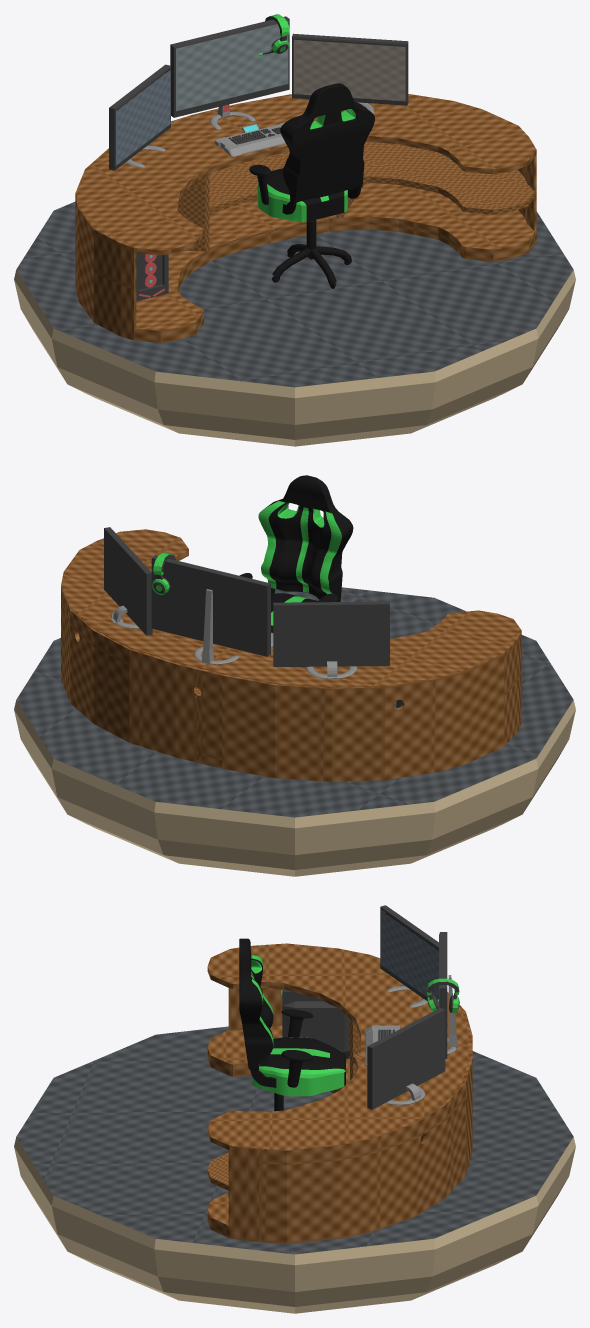
3 renders of one model, top to bottom at view 1: azimuth 30°, elevation 25°; view 2: azimuth 150°, elevation 25°; view 3: azimuth 270°, elevation 25°, orthographic.
Visible parts, largest first — view 1: Desk_Wood1-material, Floor-material, Mat007-material, Black-material, Middle_Scn-material, Left_Scn-material, Mouse1-material (×4), Right_Scn-material, Green-material, Gray-material; view 2: Desk_Wood1-material, Mat007-material, Floor-material, Mouse1-material (×3), Black-material, Green-material, Gray-material; view 3: Floor-material, Desk_Wood1-material, Mat007-material, Mouse1-material (×4), Black-material, Right_Scn-material, Green-material.
Part boxes in pixels (bbox=[...]): Desk_Wood1-material: bbox=[75, 94, 536, 342]; Floor-material: bbox=[16, 202, 573, 387]; Mat007-material: bbox=[14, 270, 575, 446]; Black-material: bbox=[249, 83, 374, 288]; Middle_Scn-material: bbox=[176, 21, 288, 111]; Left_Scn-material: bbox=[293, 39, 405, 101]; Mouse1-material (×4): bbox=[109, 16, 408, 301]; Right_Scn-material: bbox=[116, 70, 170, 165]; Green-material: bbox=[257, 108, 356, 222]; Gray-material: bbox=[215, 122, 285, 156]; Desk_Wood1-material: bbox=[61, 529, 521, 781]; Mat007-material: bbox=[14, 700, 575, 876]; Floor-material: bbox=[16, 587, 573, 817]; Mouse1-material (×3): bbox=[104, 527, 389, 666]; Black-material: bbox=[239, 475, 353, 632]; Green-material: bbox=[258, 501, 341, 625]; Gray-material: bbox=[194, 589, 239, 664]; Floor-material: bbox=[16, 1026, 573, 1254]; Desk_Wood1-material: bbox=[207, 943, 472, 1243]; Mat007-material: bbox=[14, 1137, 575, 1313]; Mouse1-material (×4): bbox=[282, 905, 447, 1109]; Black-material: bbox=[239, 938, 345, 1111]; Right_Scn-material: bbox=[380, 910, 438, 999]; Green-material: bbox=[251, 955, 345, 1096].
Size of the model in its own units: 31.24 by 17.15 by 31.24.
15 materials, 5 textured.
